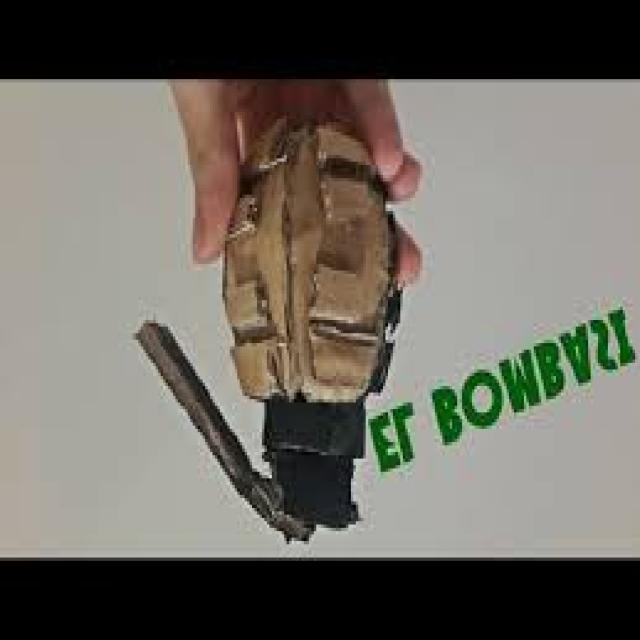grenade: (123, 118, 408, 548)
